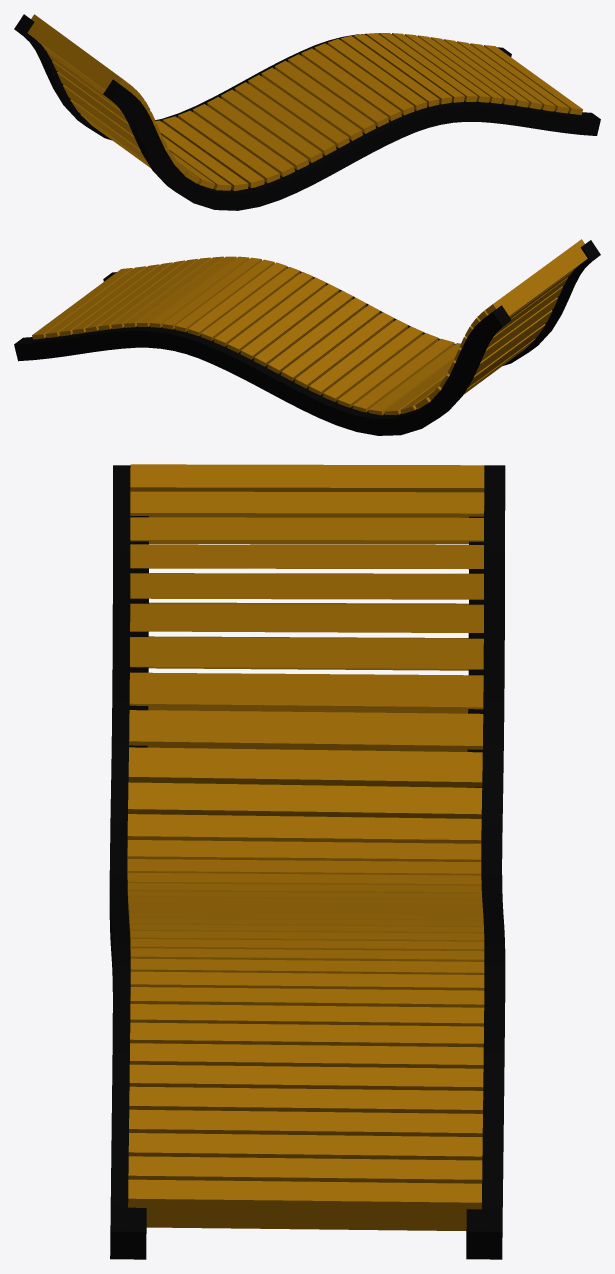
File: lounge_chair.glb
The picture shows the model from 3 angles, top to bottom: view 1: azimuth 30°, elevation 25°; view 2: azimuth 150°, elevation 25°; view 3: azimuth 270°, elevation 25°; orthographic projection. The views are drawn at different scales.
Size of the model in its own units: 18.92 by 6.24 by 6.64.
